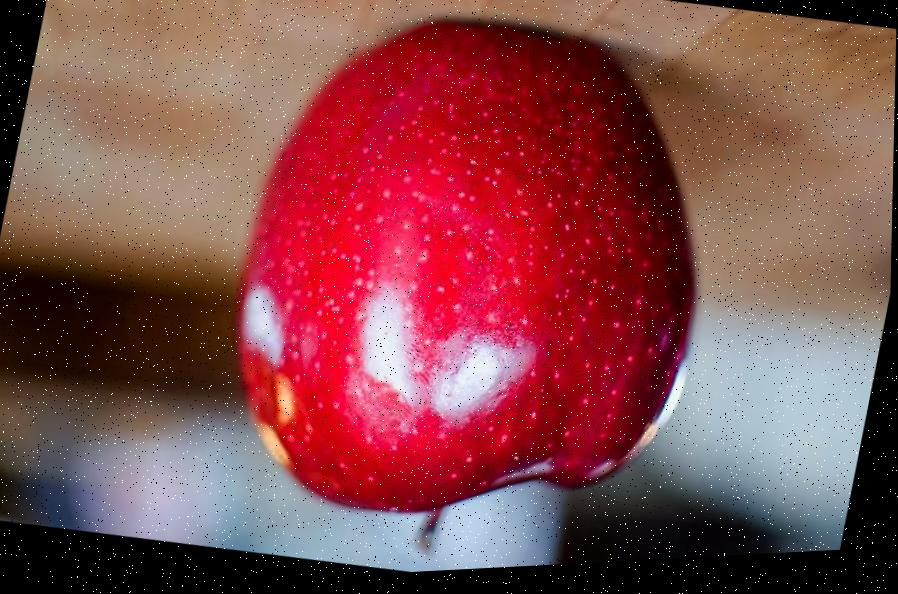HEALTHY: (178, 0, 796, 584)
